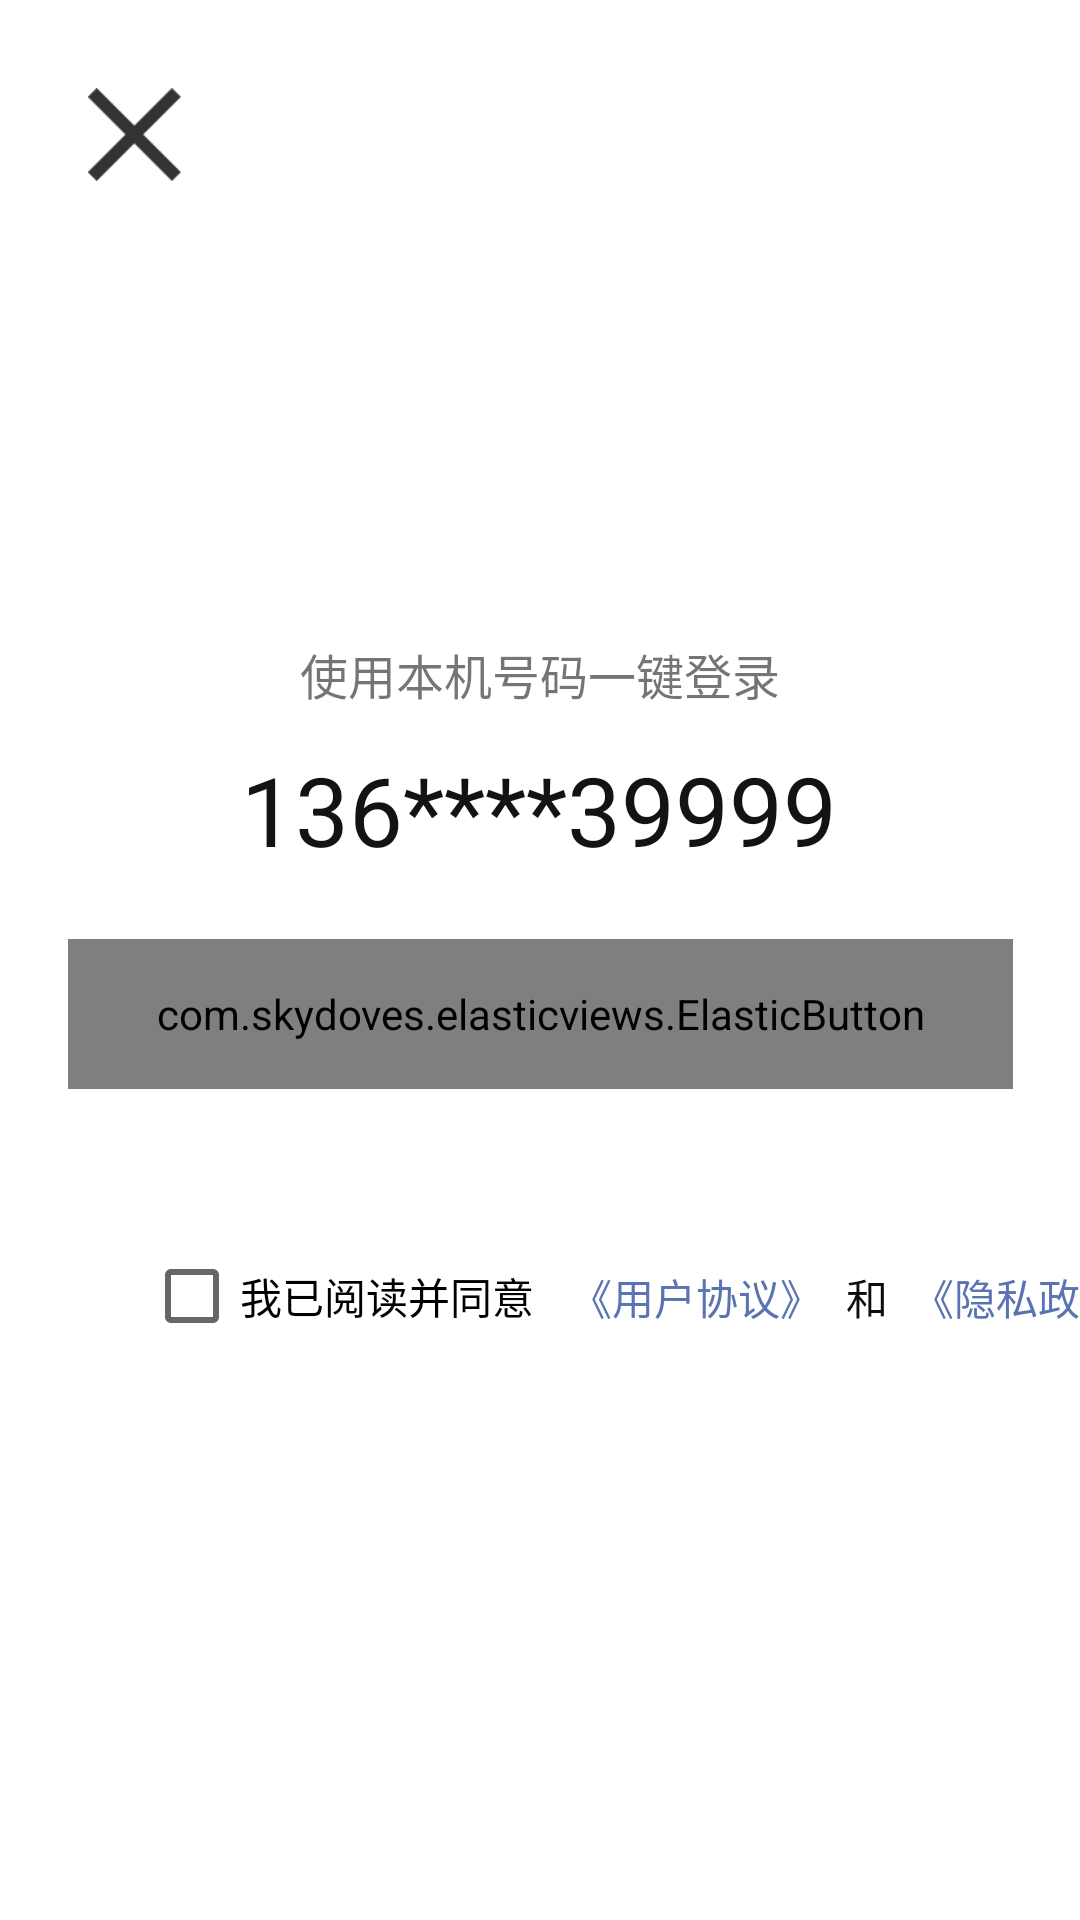

Icon click points for this 1080 × 1920 phone screenshot, format (x,y):
cancel: (134,134)
